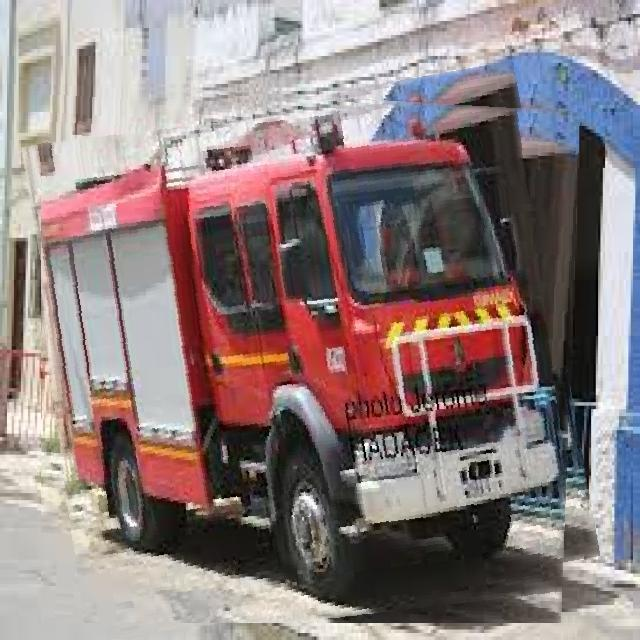Protection Civile: (41, 80, 580, 623)
